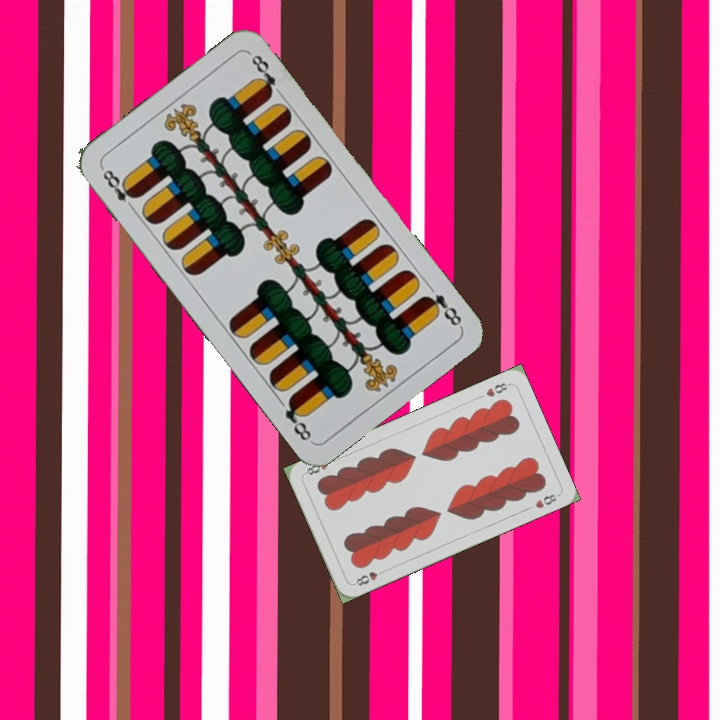E8: (98, 163, 140, 214), (418, 289, 465, 329)
H8: (350, 565, 388, 588), (482, 378, 513, 400)
